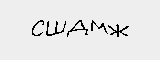Д: (64, 19, 90, 37)
Ж: (105, 22, 134, 39)
М: (89, 18, 110, 37)
С: (30, 17, 44, 39)
Ш: (45, 18, 66, 38)
